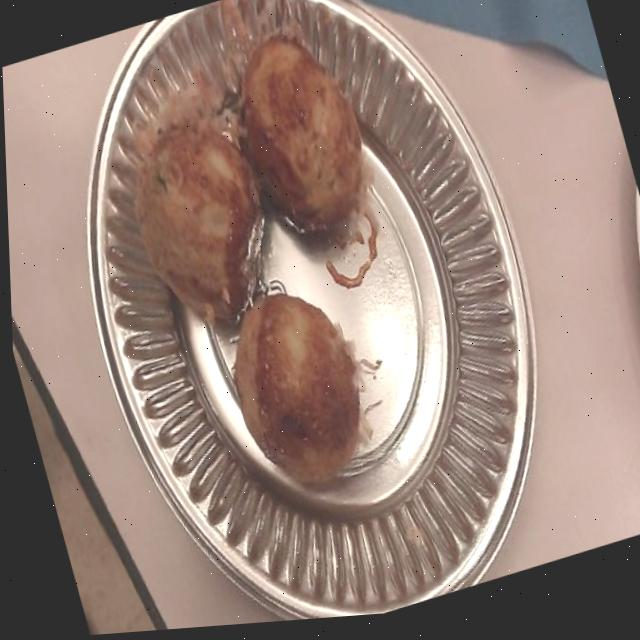炸货点心: (83, 1, 451, 531)
